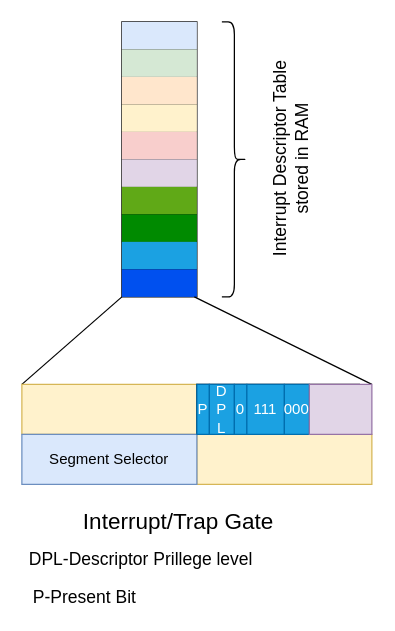
Some shapes in this 395 by 631 pixel diagram are drawn without their labels. The shapes that lost their labels are listed below. From the top down, each one's centre as x and y in pixels, then its label:
At (109,408): "offset 16-31".
At (340,408): "Resrved".
